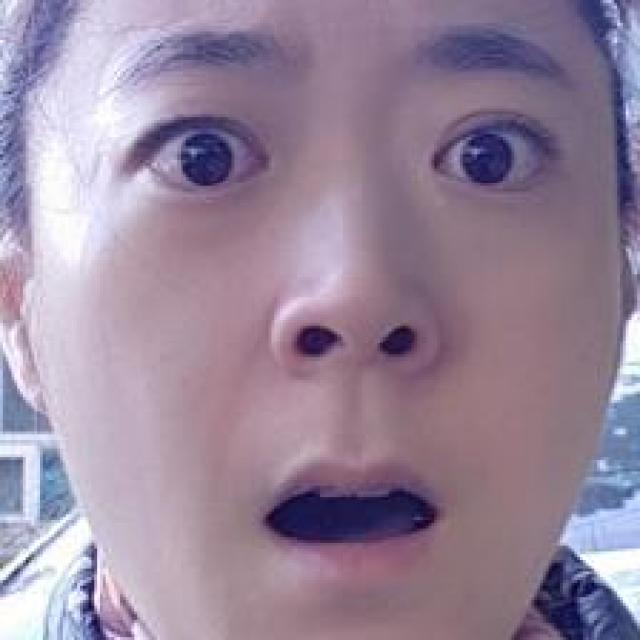fear: (146, 27, 562, 605)
